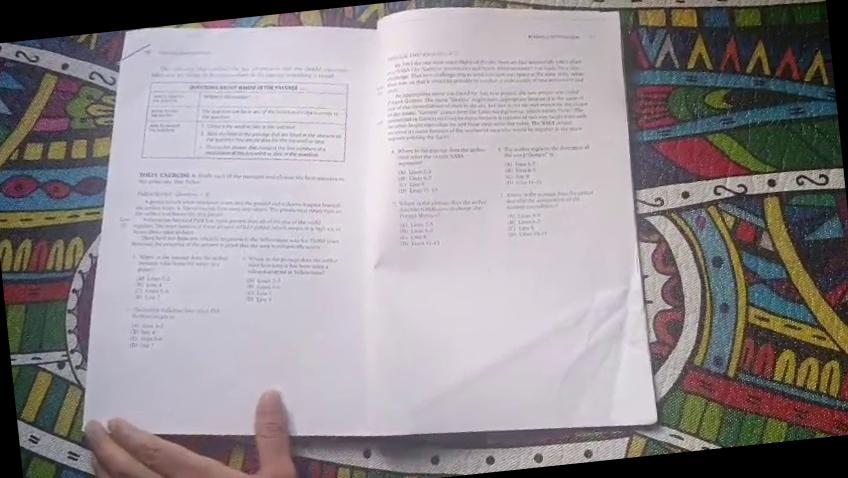Kertas: (130, 21, 532, 396), (296, 15, 648, 438)
